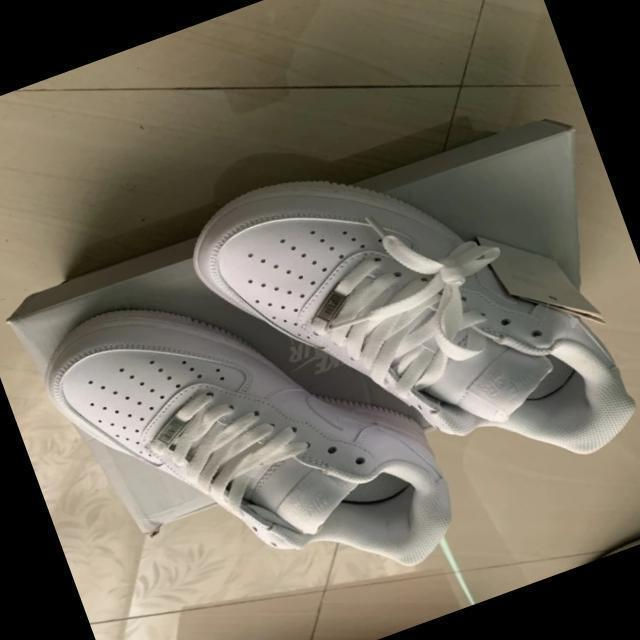nike original air force: (150, 76, 640, 572), (14, 218, 467, 640)
